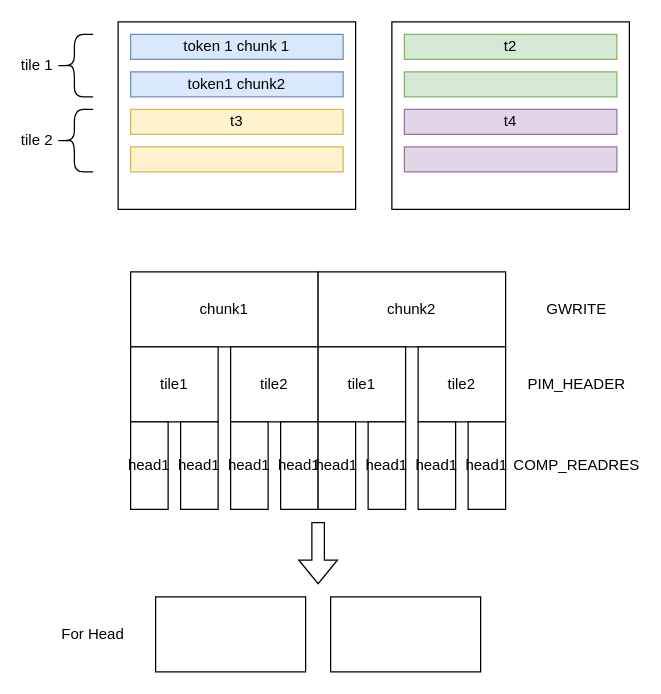
This 661x694 diagram has some shape labels left out. The centre of each missing label's shape, as x and y in pixels:
"MOVEOUT" goes at [405,634].
"Soft max" goes at [230,634].
